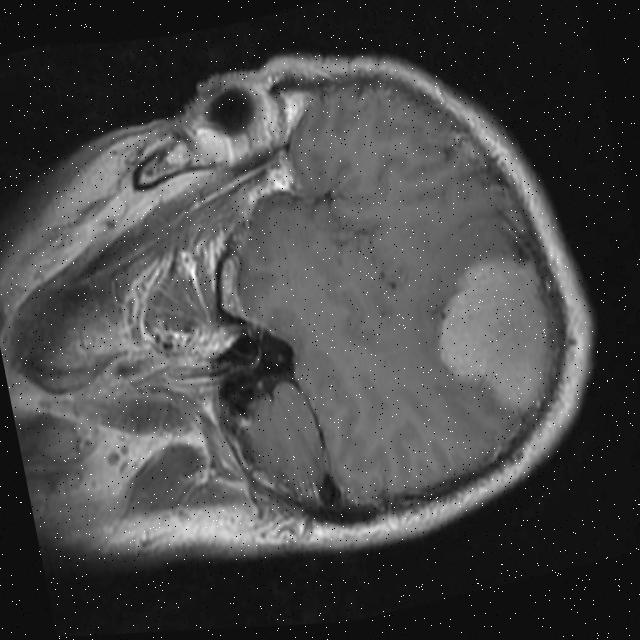Meningioma: (421, 242, 570, 434)
